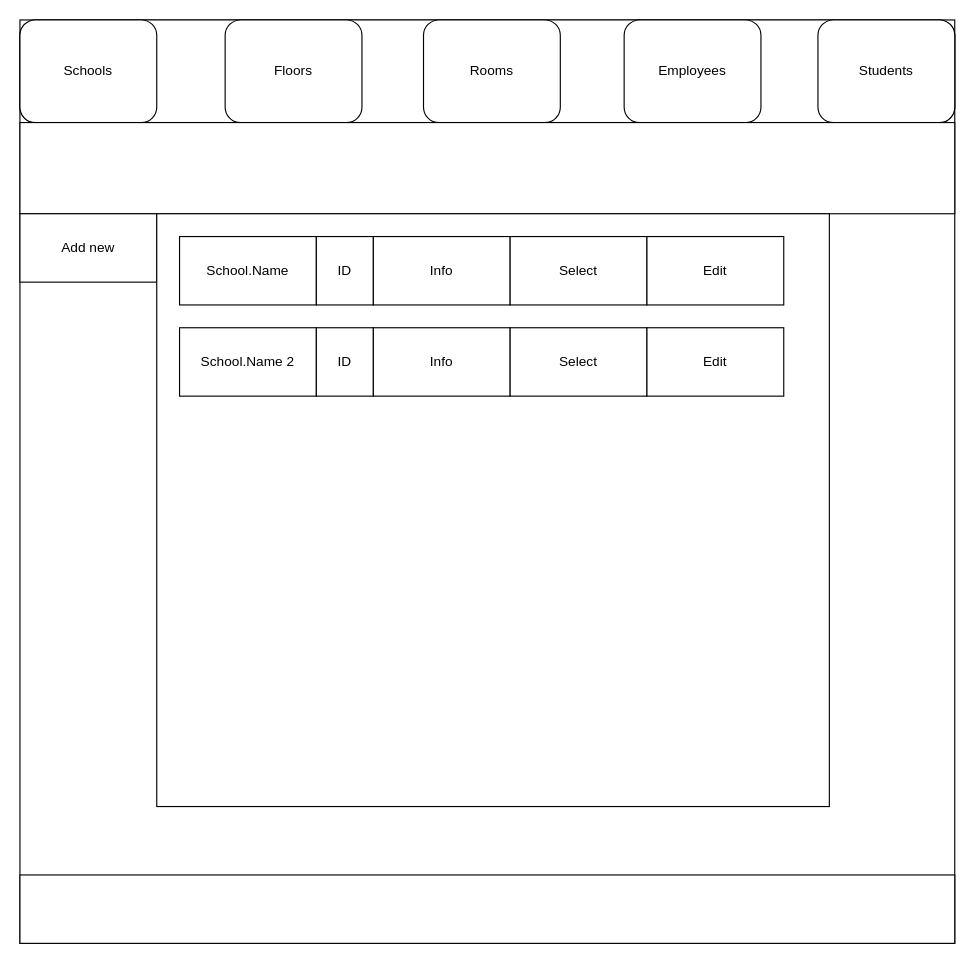
This 975x963 diagram has some shape labels left out. Each missing label, with the centre of its shape:
Schools list:: point (487, 167)
Site info: point (487, 908)
